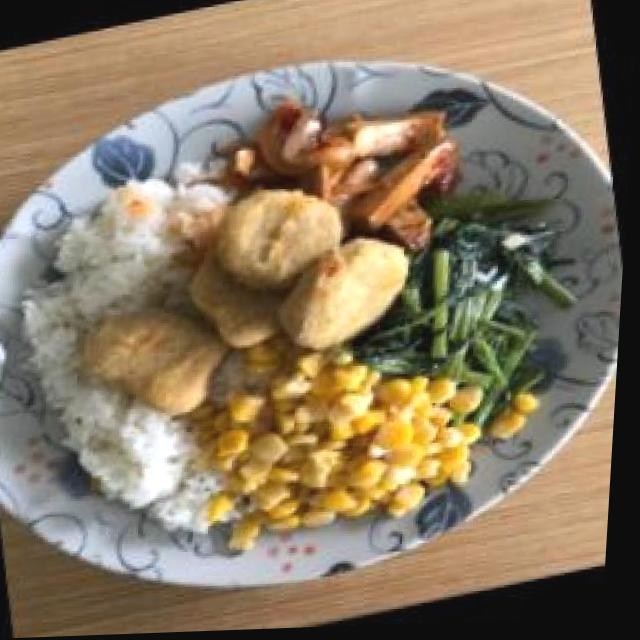chicken_nuggets: (68, 167, 433, 425)
rice: (0, 161, 240, 348)
water_spinach: (381, 206, 588, 386)
